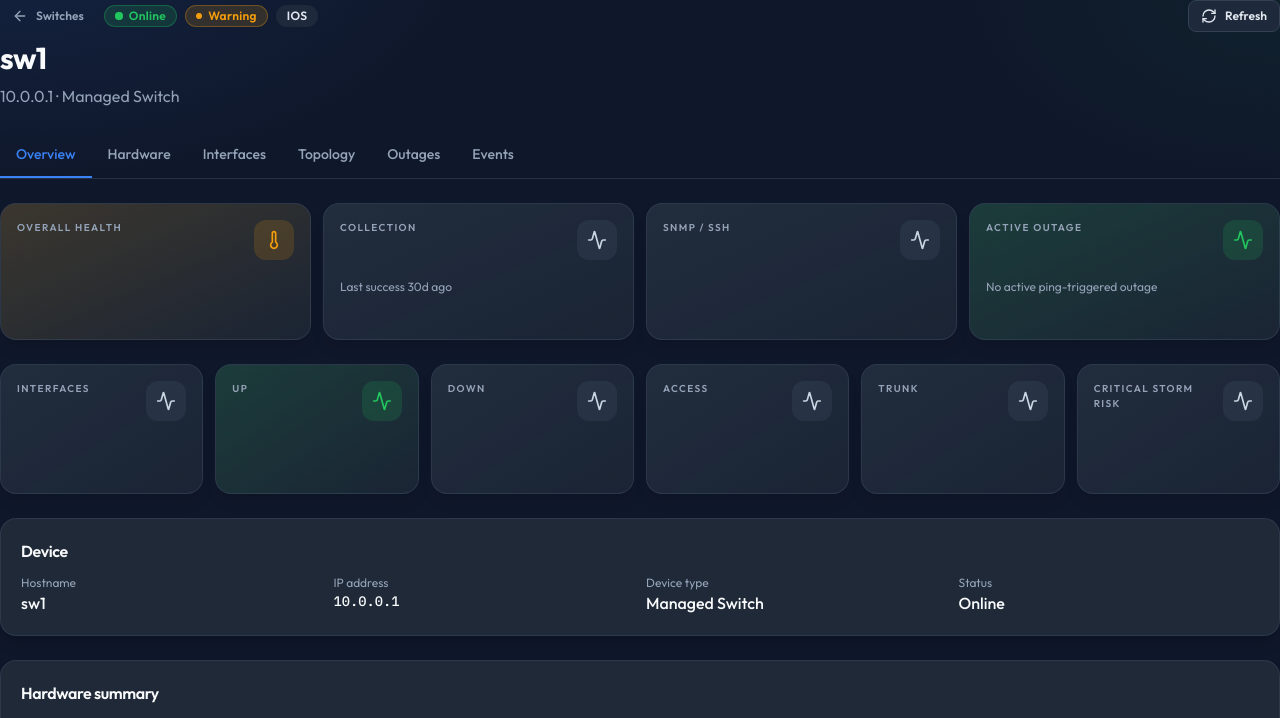
SwitchDetailPage › clicking the Interfaces tab shows the device-scoped interface table
This screenshot has width=1280, height=718.
Click the 1st button "Interfaces": (234,155) [187,132,282,178]
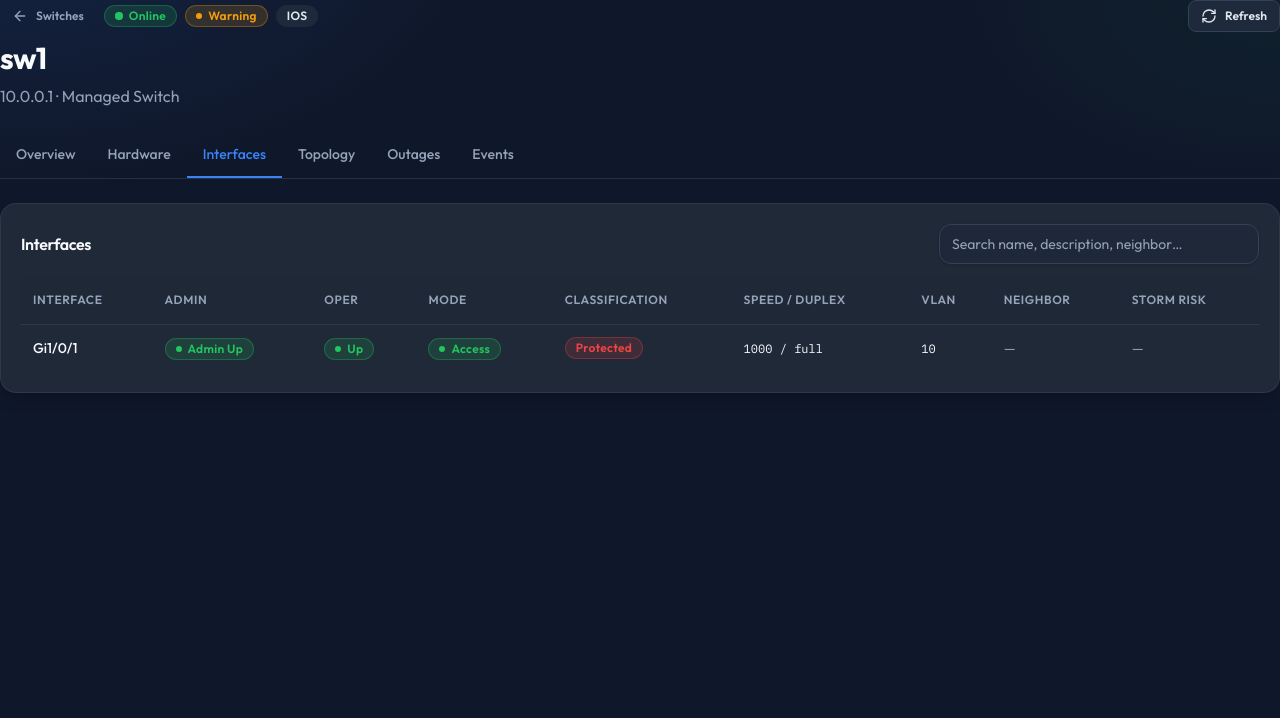
expect the text "Gi1/0/1" is shown: met, box [33,339,77,357]
